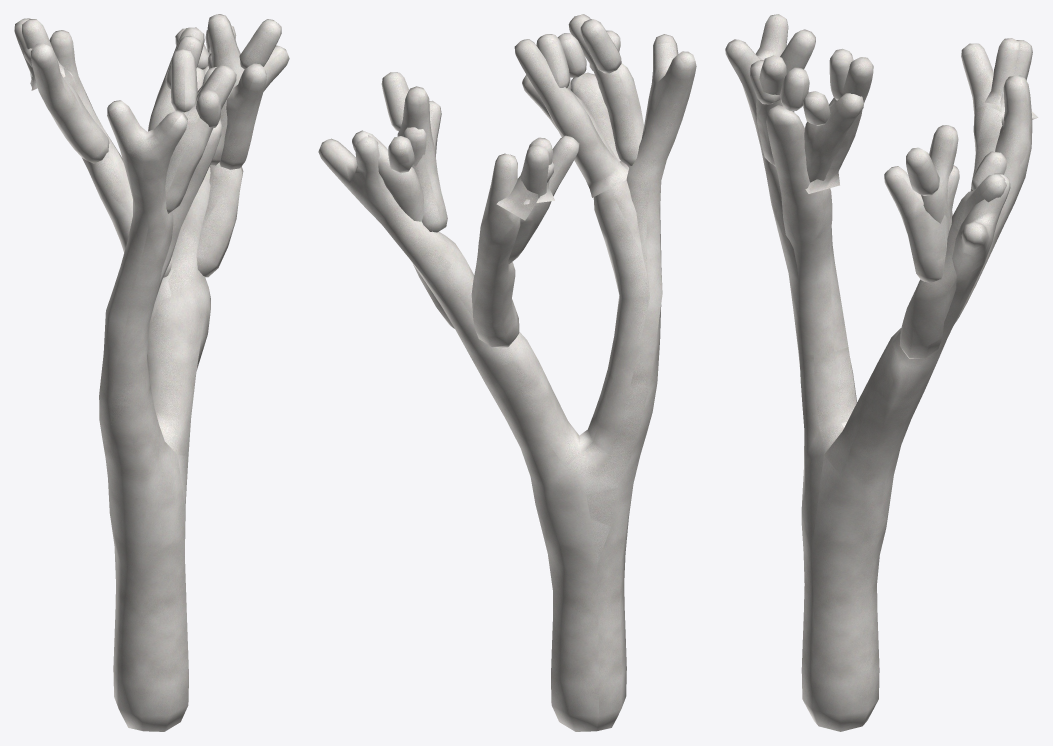
The model's file is coral_rama2.fbx.
3 views of the same model, side by side, from view 1: azimuth 30°, elevation 25°; view 2: azimuth 150°, elevation 25°; view 3: azimuth 270°, elevation 25° (orthographic). The views are drawn at different scales.
Visible parts, largest first — view 1: coral_rama2; view 2: coral_rama2; view 3: coral_rama2.
Part boxes in pixels (x1,y1,x2,y2): coral_rama2: (14,14,289,731); coral_rama2: (318,14,696,731); coral_rama2: (725,14,1038,731).
Size of the model in its own units: 0.651 by 1.56 by 0.6268.
1 material, 1 textured.
